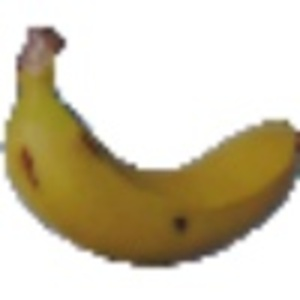banana: (5, 24, 297, 269)
